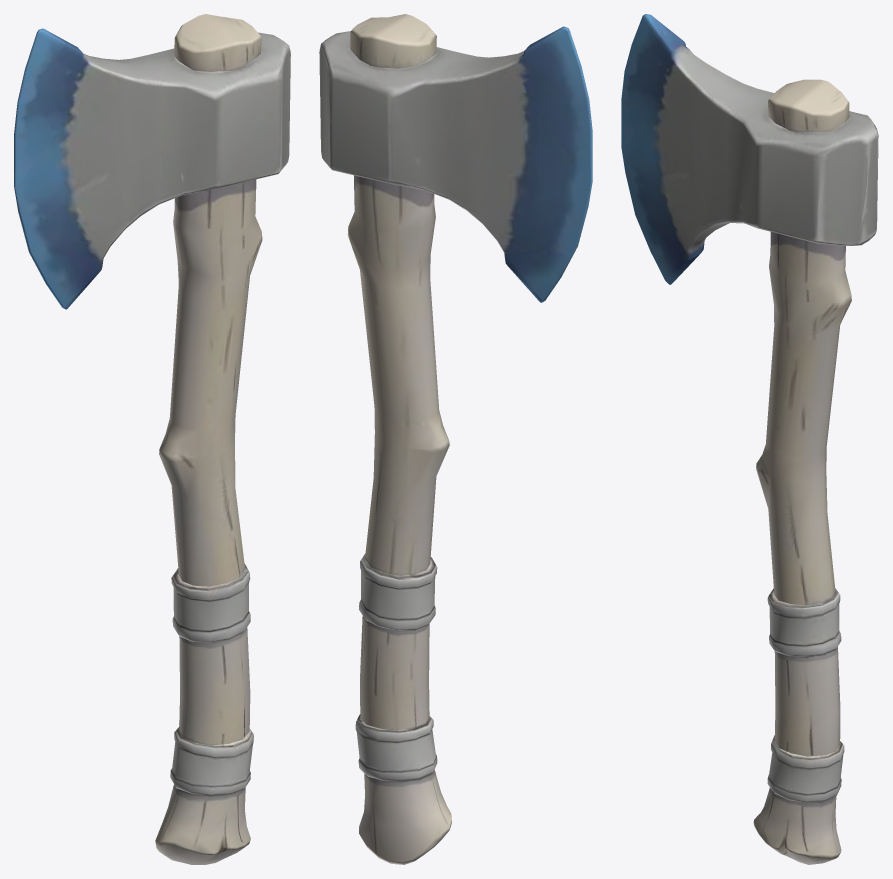
File: glaciersplit.glb
3 renders of one model, left to right at view 1: azimuth 30°, elevation 25°; view 2: azimuth 150°, elevation 25°; view 3: azimuth 330°, elevation 25°, orthographic. The views are drawn at different scales.
Parts seen in each view (by area): view 1: tripo_node_135919ab-0dc1-4cd9-a609-d5c0718db1b7; view 2: tripo_node_135919ab-0dc1-4cd9-a609-d5c0718db1b7; view 3: tripo_node_135919ab-0dc1-4cd9-a609-d5c0718db1b7.
Part boxes in pixels (x1,y1,x2,y2): tripo_node_135919ab-0dc1-4cd9-a609-d5c0718db1b7: (14,14,290,864); tripo_node_135919ab-0dc1-4cd9-a609-d5c0718db1b7: (319,14,592,864); tripo_node_135919ab-0dc1-4cd9-a609-d5c0718db1b7: (621,14,878,864).
Bounding box in the file's own units: 0.4696 × 1.45 × 0.1721.
Materials: 1 (1 with a texture image).
